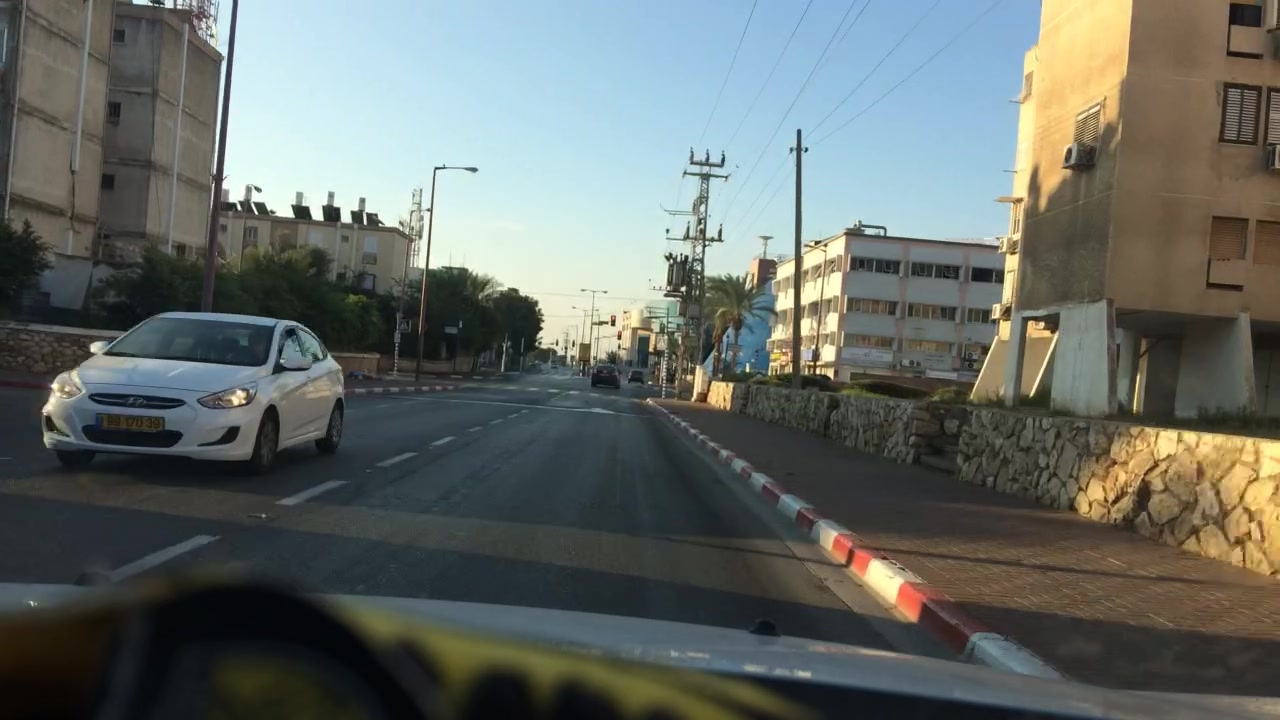licence: (92, 411, 168, 437)
